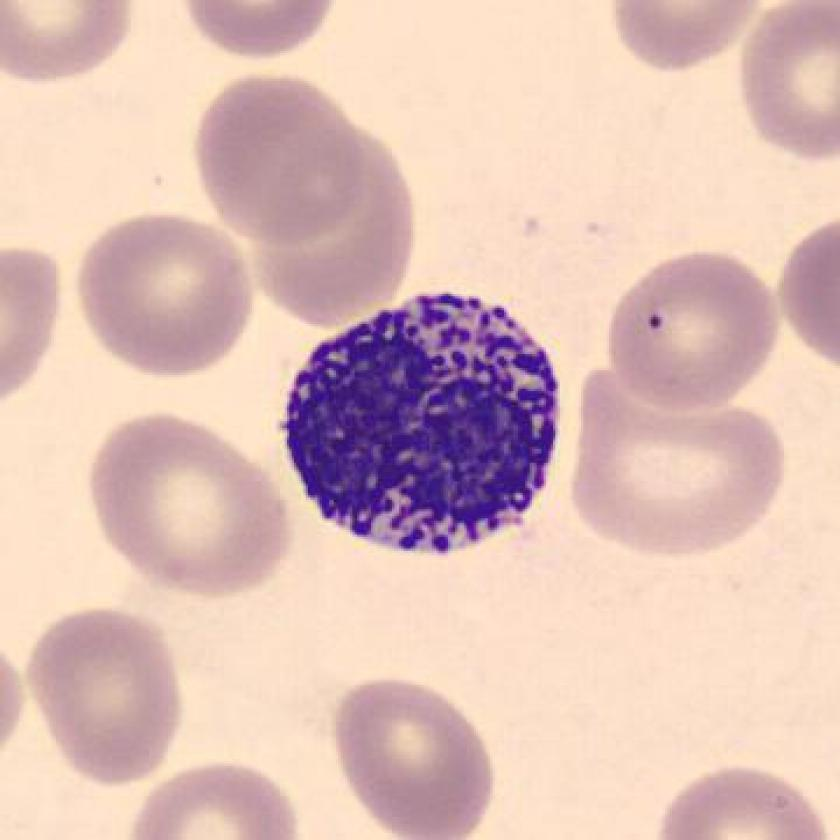basophil: (276, 286, 566, 561)
